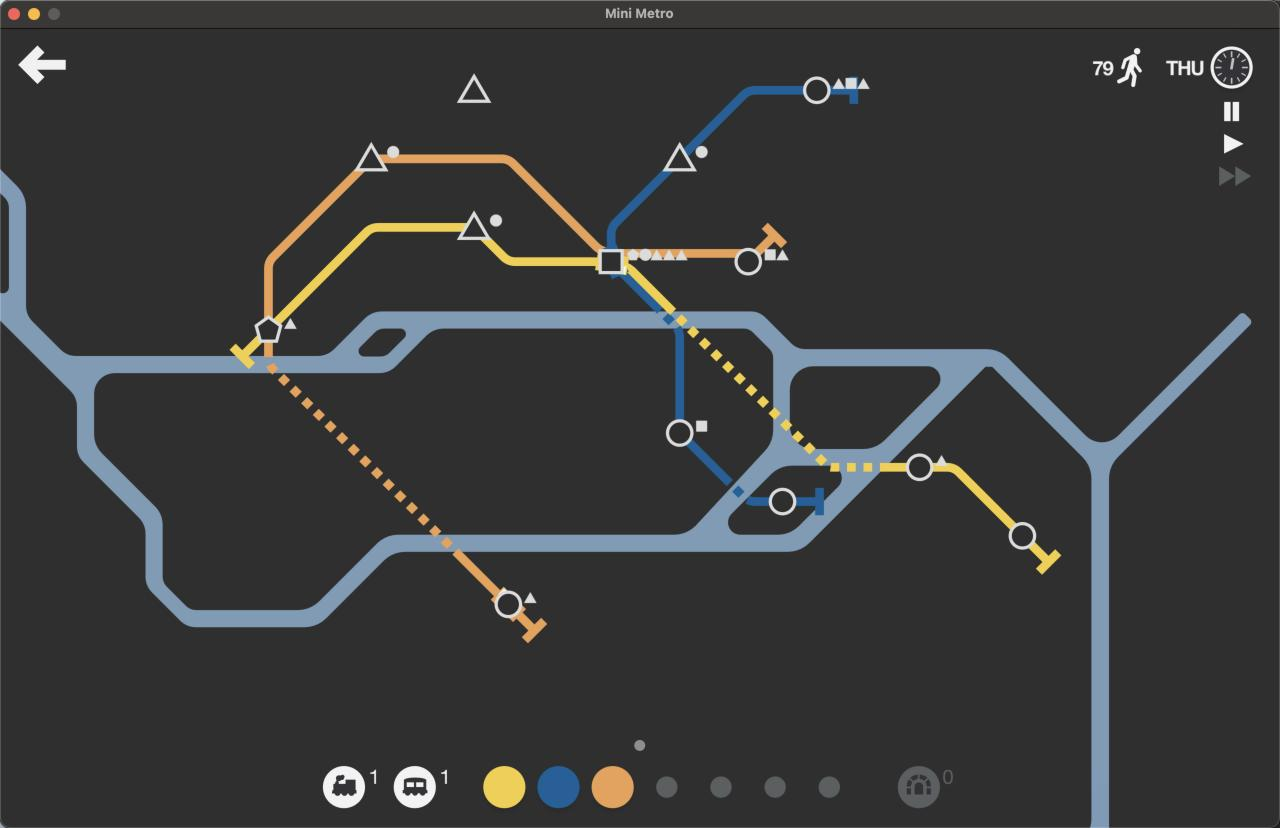CIRCLE: (493, 589, 523, 620), (665, 418, 695, 448), (802, 75, 831, 105), (905, 453, 934, 482), (768, 487, 797, 516), (1008, 521, 1037, 550), (734, 247, 762, 275)
PENTAGON: (254, 315, 283, 345)
SQUARE: (597, 248, 625, 275)
TRIANGLE: (456, 72, 492, 105), (458, 210, 493, 241), (663, 142, 697, 173), (355, 141, 389, 172)
